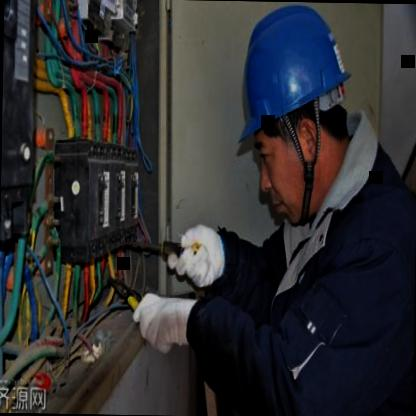helmet: (232, 0, 352, 222)
